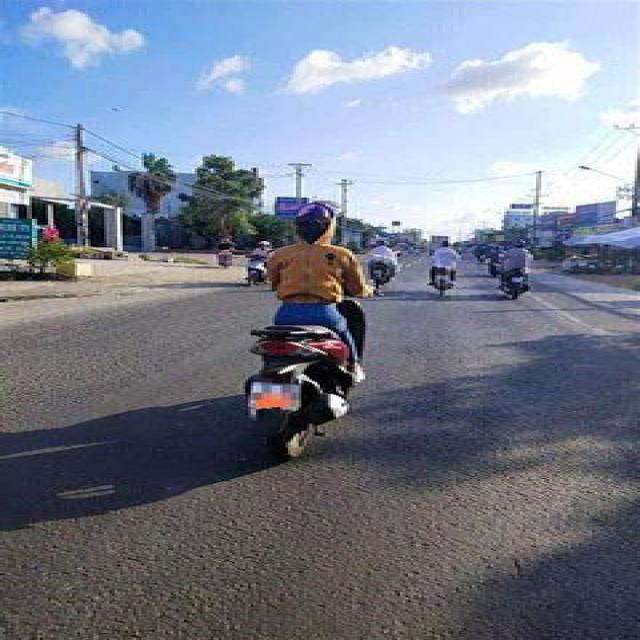motorcycle: (172, 312, 489, 484), (483, 245, 568, 307)
